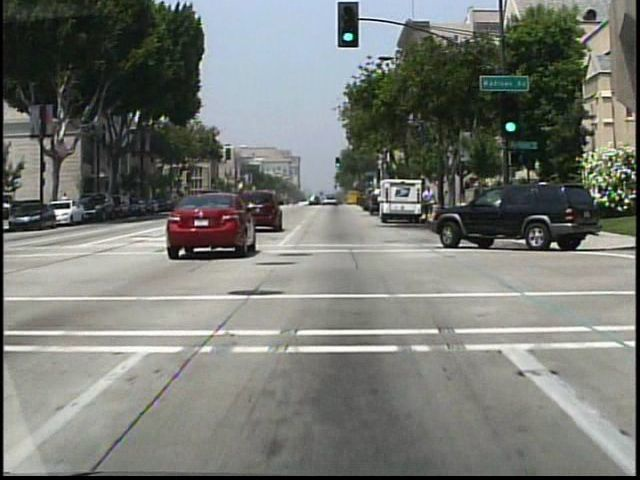person: (422, 185, 436, 221), (359, 189, 372, 214), (62, 190, 74, 215)
